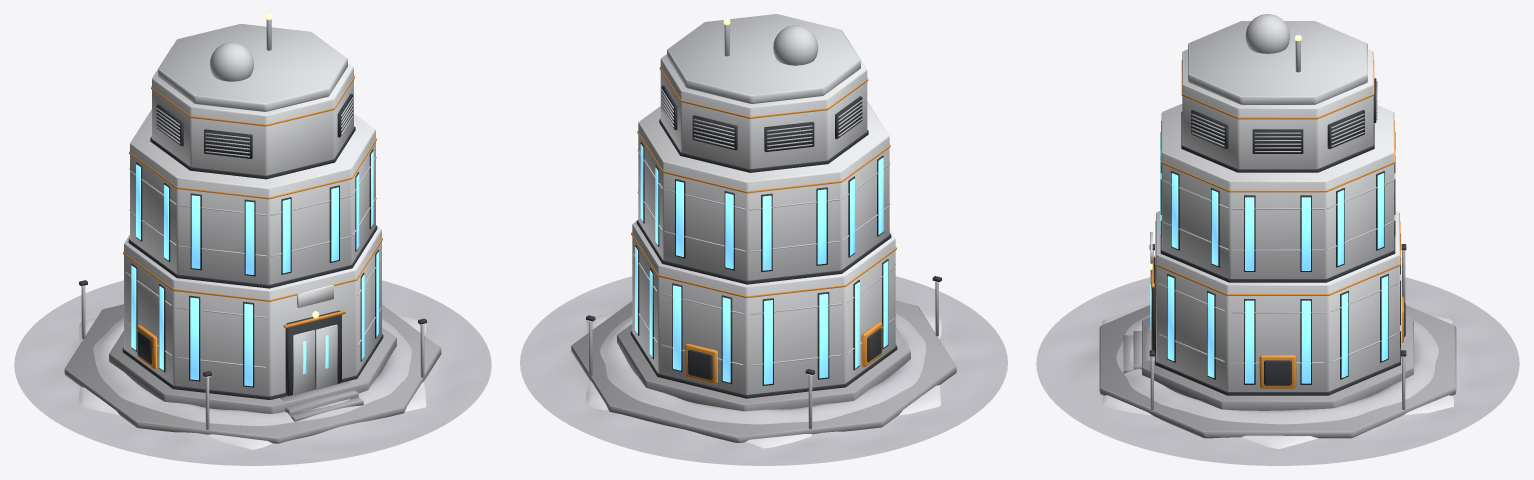
Rendered from MoonMop_Kit.fbx.
The picture shows the model from 3 angles, left to right: view 1: azimuth 30°, elevation 25°; view 2: azimuth 150°, elevation 25°; view 3: azimuth 270°, elevation 25°; orthographic projection. The views are drawn at different scales.
Parts seen in each view (by area): view 1: MM_Station__White, MM_SurveyCrater__Ground, MM_Station__Panel, MM_Station__Concrete, MM_Station__Dark, MM_Station__Glass, MM_Station__Orange, MM_Station__Metal, MM_DustHex; view 2: MM_Station__White, MM_SurveyCrater__Ground, MM_Station__Concrete, MM_Station__Panel, MM_Station__Dark, MM_Station__Glass, MM_Station__Orange, MM_Station__Metal, MM_DustHex; view 3: MM_Station__White, MM_SurveyCrater__Ground, MM_Station__Concrete, MM_Station__Panel, MM_Station__Dark, MM_Station__Glass, MM_Station__Orange, MM_Station__Metal, MM_DustHex.
Boxes of the visible parts, x1,y1,x2,y2 form: MM_Station__White: (124, 47, 381, 396); MM_SurveyCrater__Ground: (14, 280, 491, 465); MM_Station__Panel: (125, 24, 381, 394); MM_Station__Concrete: (64, 304, 441, 443); MM_Station__Dark: (79, 93, 426, 399); MM_Station__Glass: (131, 151, 378, 386); MM_Station__Orange: (123, 75, 382, 369); MM_Station__Metal: (81, 19, 424, 429); MM_DustHex: (79, 314, 426, 449); MM_Station__White: (632, 38, 895, 394); MM_SurveyCrater__Ground: (520, 276, 1007, 465); MM_Station__Concrete: (571, 300, 956, 442); MM_Station__Panel: (632, 14, 895, 365); MM_Station__Dark: (586, 85, 941, 398); MM_Station__Glass: (635, 144, 888, 384); MM_Station__Orange: (631, 67, 896, 384); MM_Station__Metal: (589, 24, 938, 429); MM_DustHex: (586, 311, 941, 448); MM_Station__White: (1150, 49, 1399, 391); MM_SurveyCrater__Ground: (1036, 276, 1519, 465); MM_Station__Concrete: (1099, 305, 1456, 438); MM_Station__Panel: (1151, 14, 1400, 363); MM_Station__Dark: (1149, 78, 1406, 395); MM_Station__Glass: (1150, 134, 1401, 383); MM_Station__Orange: (1151, 60, 1403, 388); MM_Station__Metal: (1150, 40, 1405, 409); MM_DustHex: (1102, 314, 1453, 448).
Size of the model in its own units: 4760 by 3927 by 4760.
